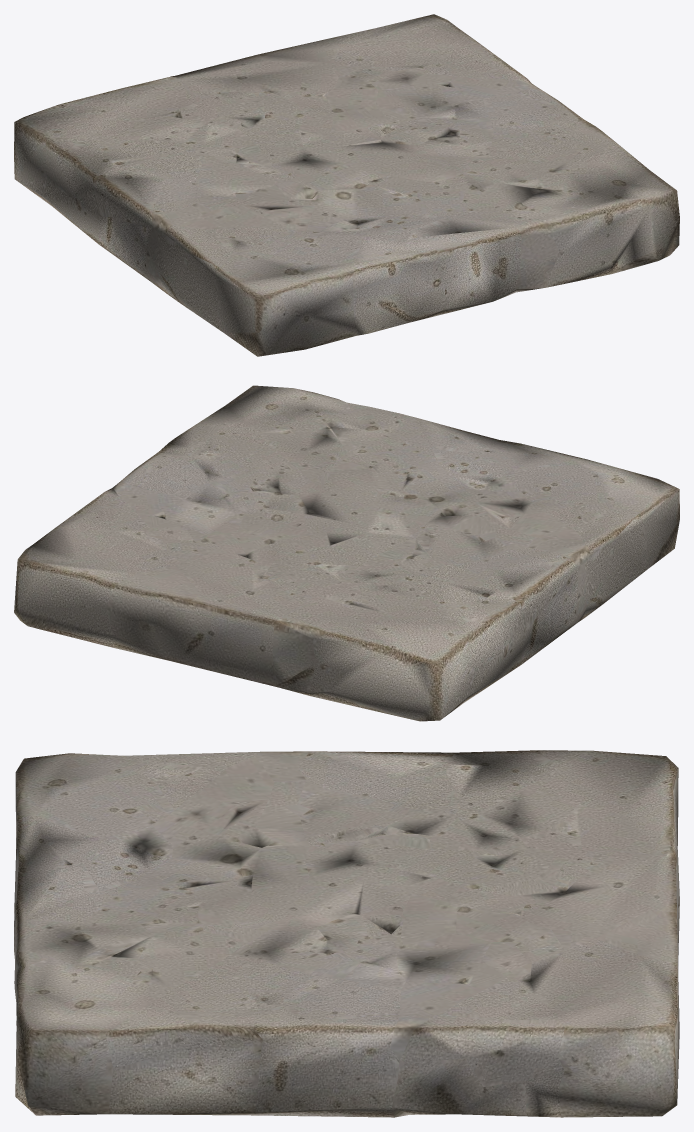
File: pnl_slab_lod1.glb
3 views of the same model, one above another, from view 1: azimuth 30°, elevation 25°; view 2: azimuth 150°, elevation 25°; view 3: azimuth 270°, elevation 25° (orthographic). The views are drawn at different scales.
Parts seen in each view (by area): view 1: tripo_node_7273629e-ee3f-4da5-a77a-b1927d6b4c12; view 2: tripo_node_7273629e-ee3f-4da5-a77a-b1927d6b4c12; view 3: tripo_node_7273629e-ee3f-4da5-a77a-b1927d6b4c12.
Part boxes in pixels (x1,y1,x2,y2): tripo_node_7273629e-ee3f-4da5-a77a-b1927d6b4c12: [14, 14, 679, 356]; tripo_node_7273629e-ee3f-4da5-a77a-b1927d6b4c12: [14, 385, 679, 721]; tripo_node_7273629e-ee3f-4da5-a77a-b1927d6b4c12: [14, 750, 679, 1117].
Size of the model in its own units: 0.3034 by 0.0499 by 0.3034.
1 material, 1 textured.
